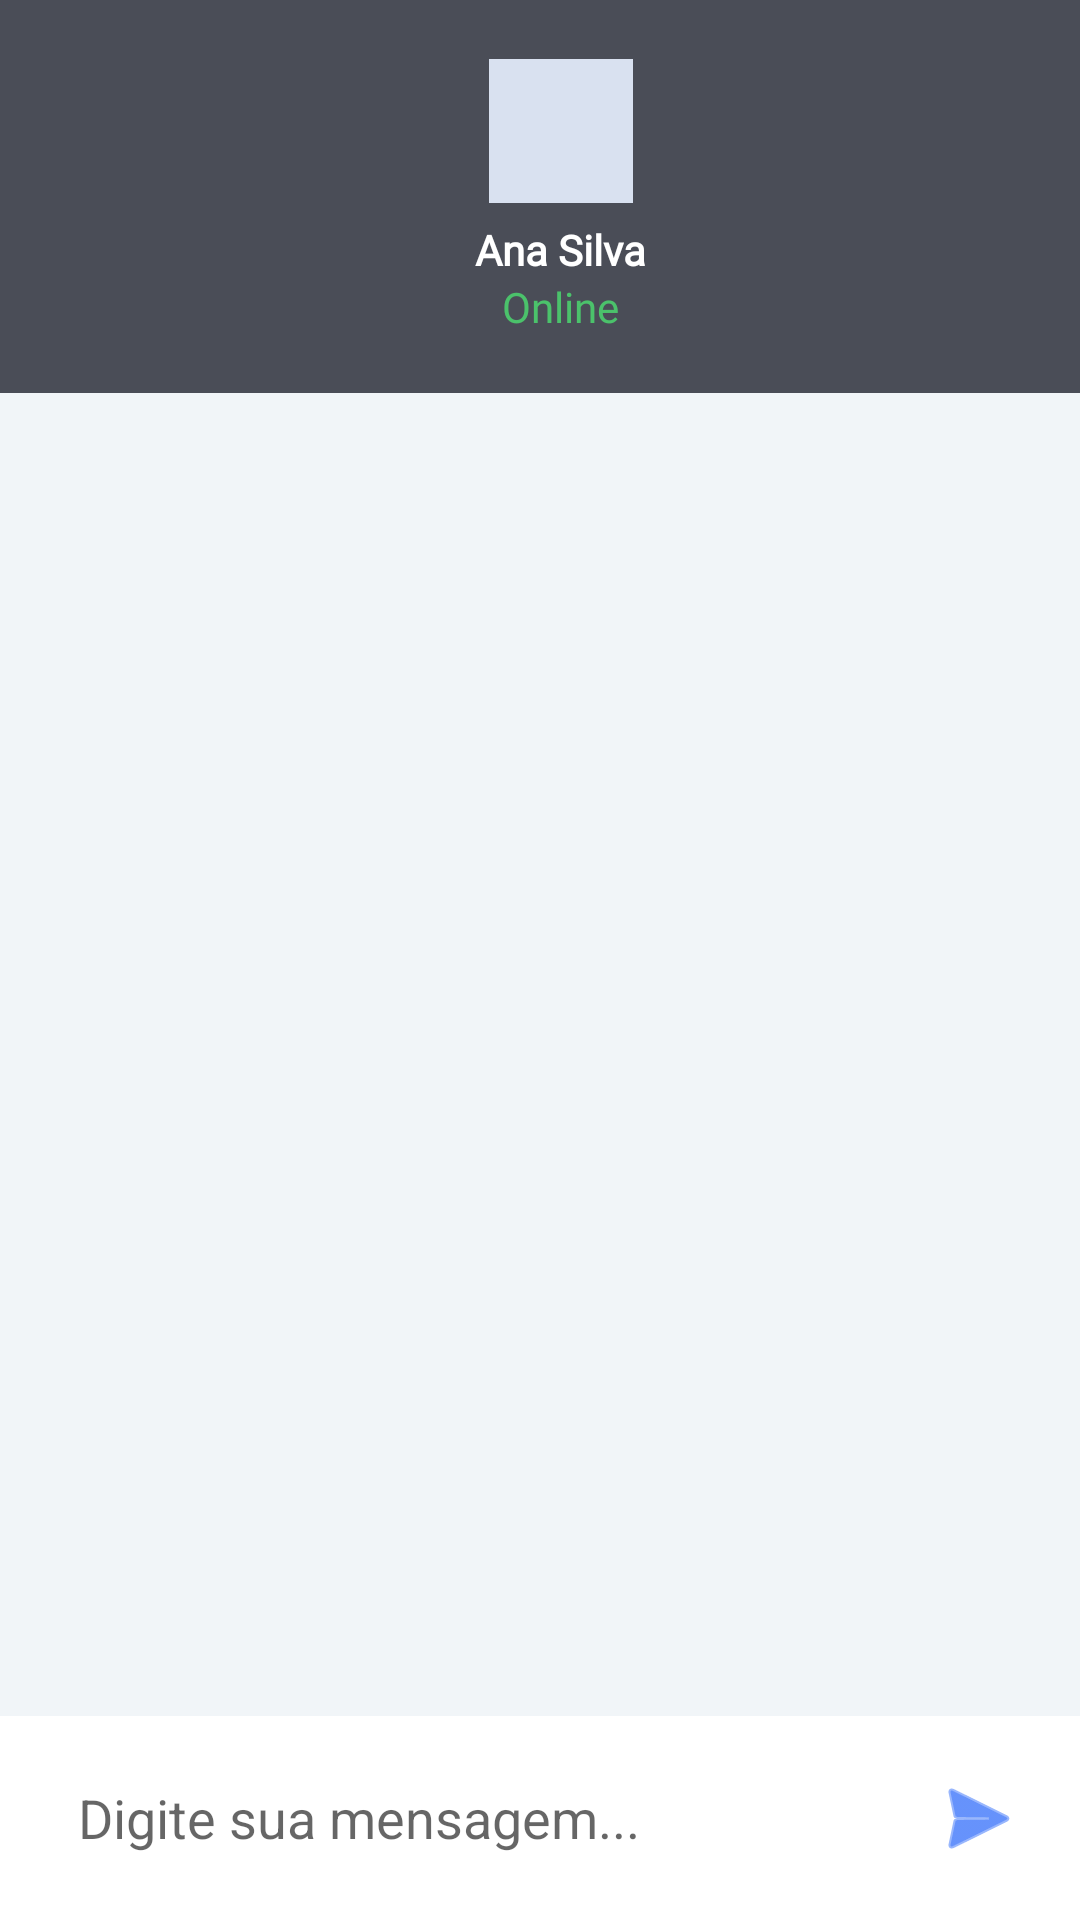

Where to tap for icons on this 1080 × 1920 app screen, as point (x, y):
send: point (979, 1818)
